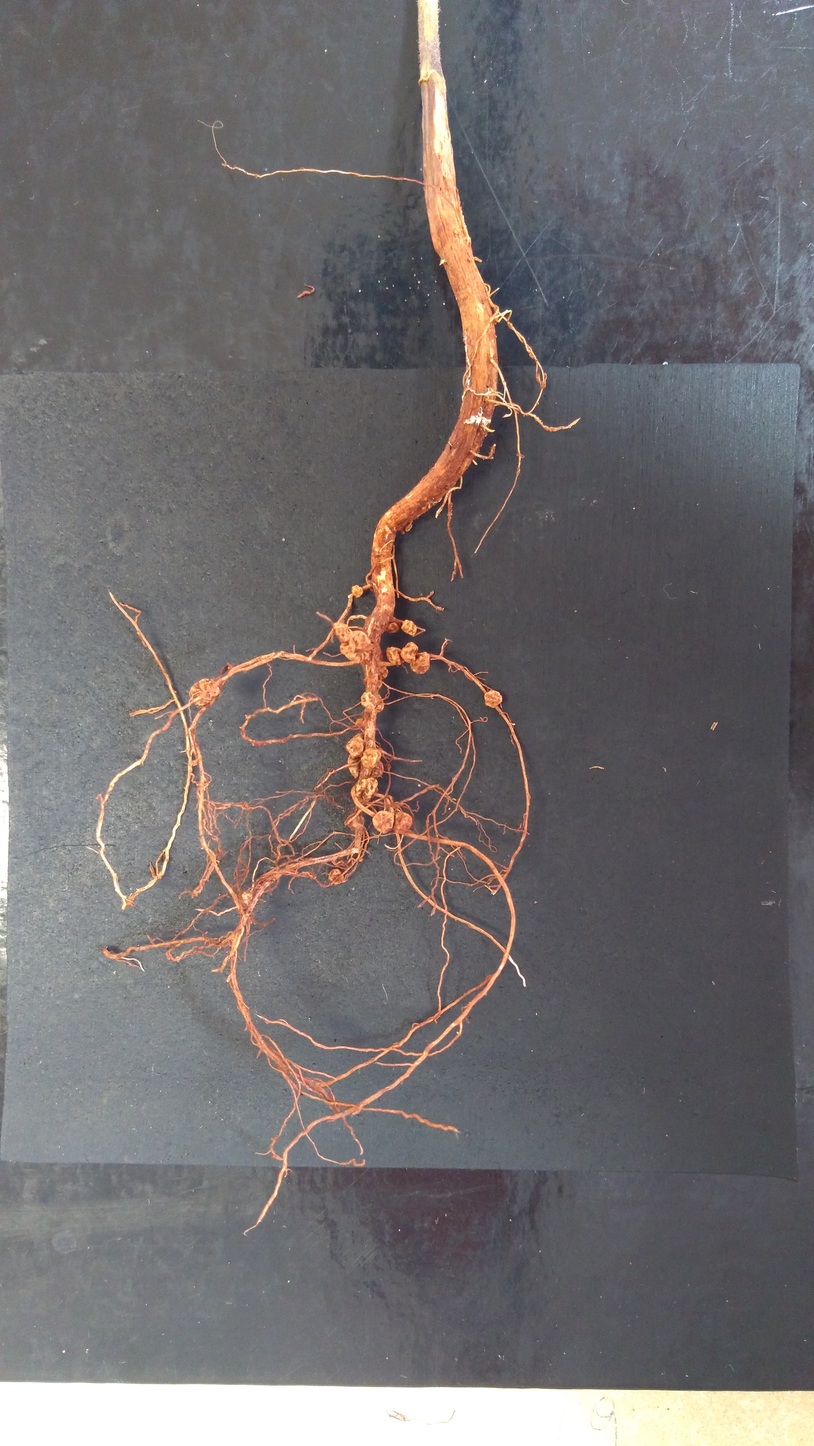nodule: (189, 678, 220, 707), (340, 639, 370, 663), (346, 732, 365, 760), (356, 777, 379, 799), (372, 811, 394, 834), (361, 692, 384, 713), (409, 652, 429, 674), (361, 747, 382, 767), (347, 753, 362, 779), (333, 622, 352, 642), (350, 630, 370, 649), (386, 647, 405, 666), (401, 641, 418, 662), (395, 812, 412, 833), (484, 690, 502, 708), (401, 619, 417, 636), (328, 868, 344, 885), (347, 816, 365, 831), (372, 760, 384, 777), (351, 585, 363, 598), (388, 621, 400, 633), (242, 892, 253, 904), (378, 667, 389, 679), (221, 665, 232, 677), (356, 717, 365, 728), (199, 778, 206, 791), (376, 680, 383, 688), (358, 858, 364, 862)
